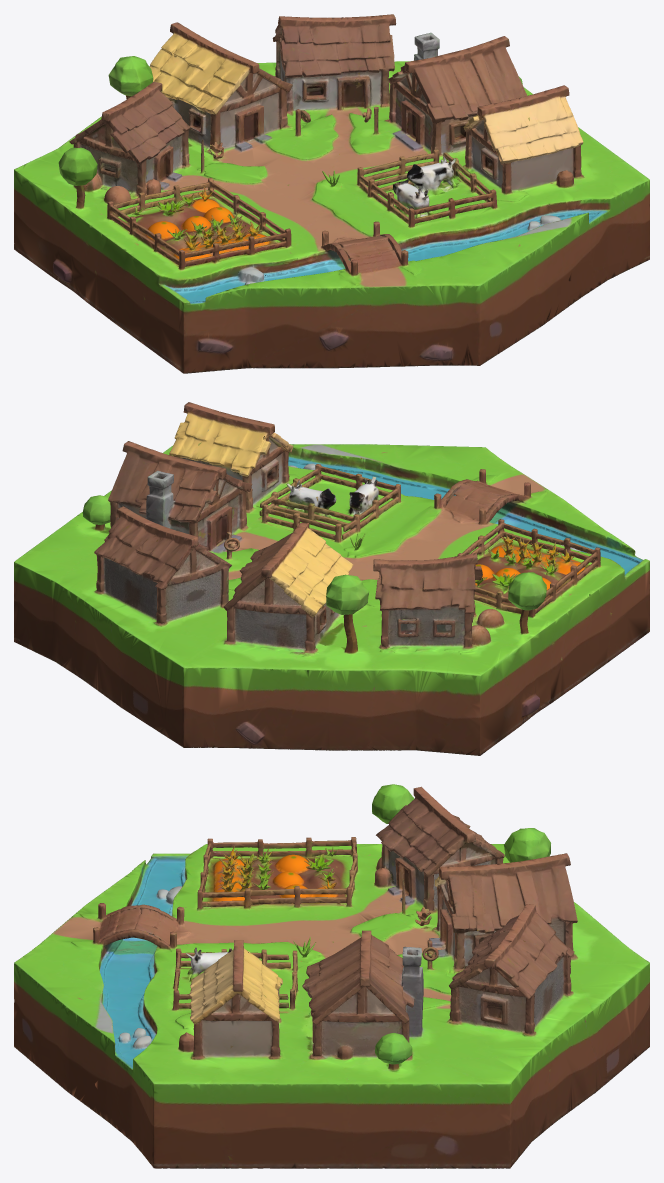
The model's file is towntile_lv3.glb.
3 views of the same model, one above another, from view 1: azimuth 30°, elevation 25°; view 2: azimuth 150°, elevation 25°; view 3: azimuth 270°, elevation 25° (orthographic). The views are drawn at different scales.
Size of the model in its own units: 1.73 by 0.559 by 1.9.
1 material, 1 textured.
